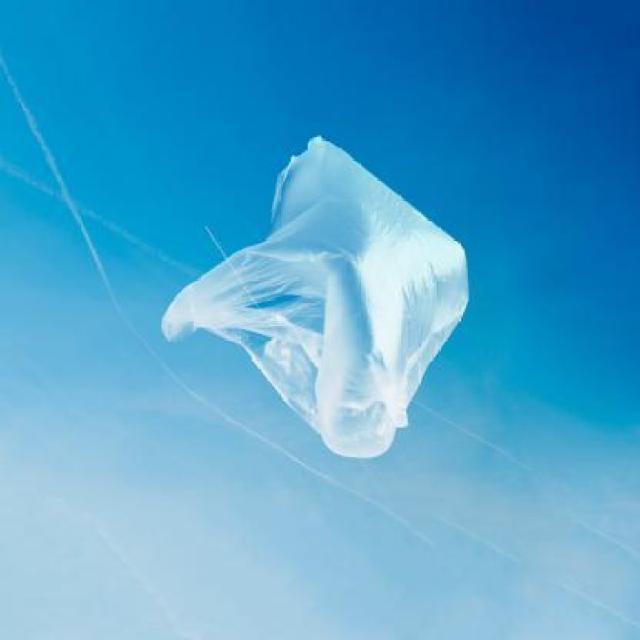plastic bag: (137, 115, 489, 497)
